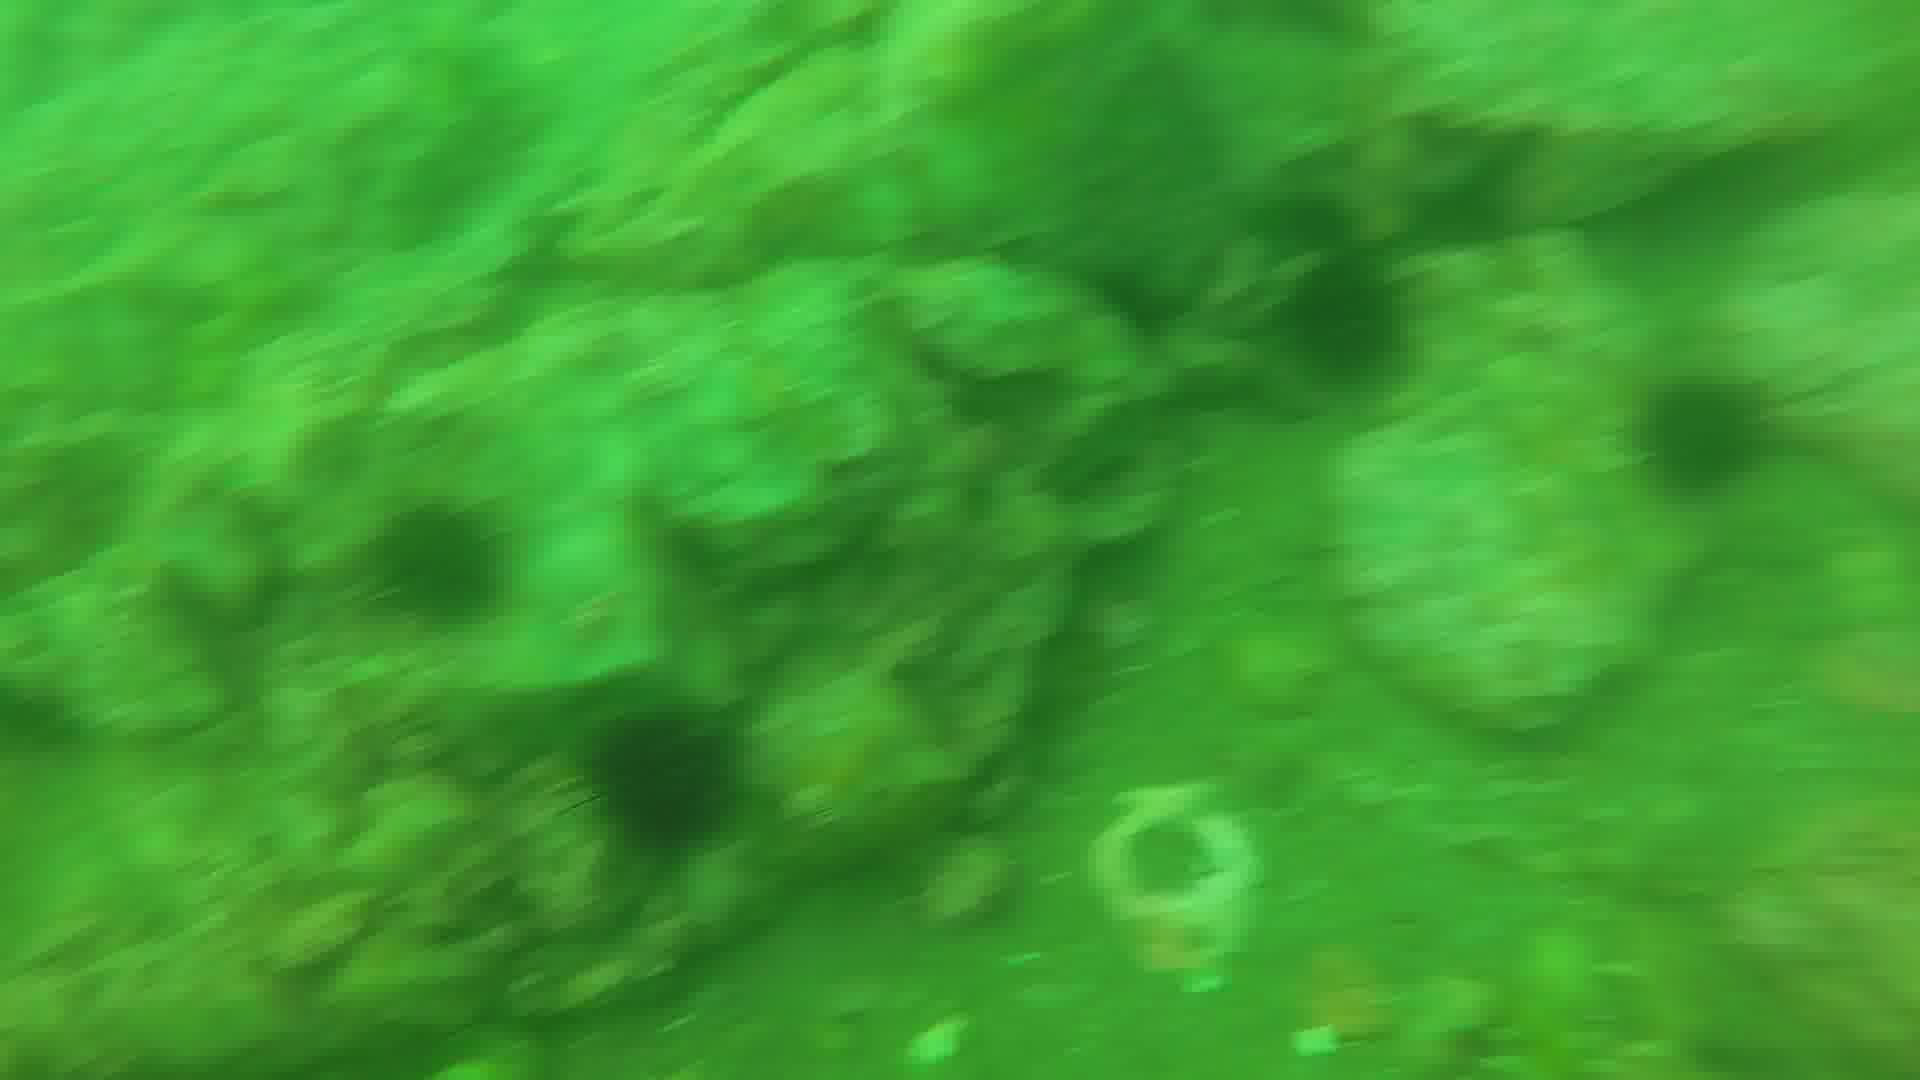echinus: (591, 713, 742, 855), (1647, 353, 1764, 497), (382, 504, 512, 622), (1299, 262, 1415, 369), (1287, 181, 1371, 266), (1100, 262, 1176, 347)
